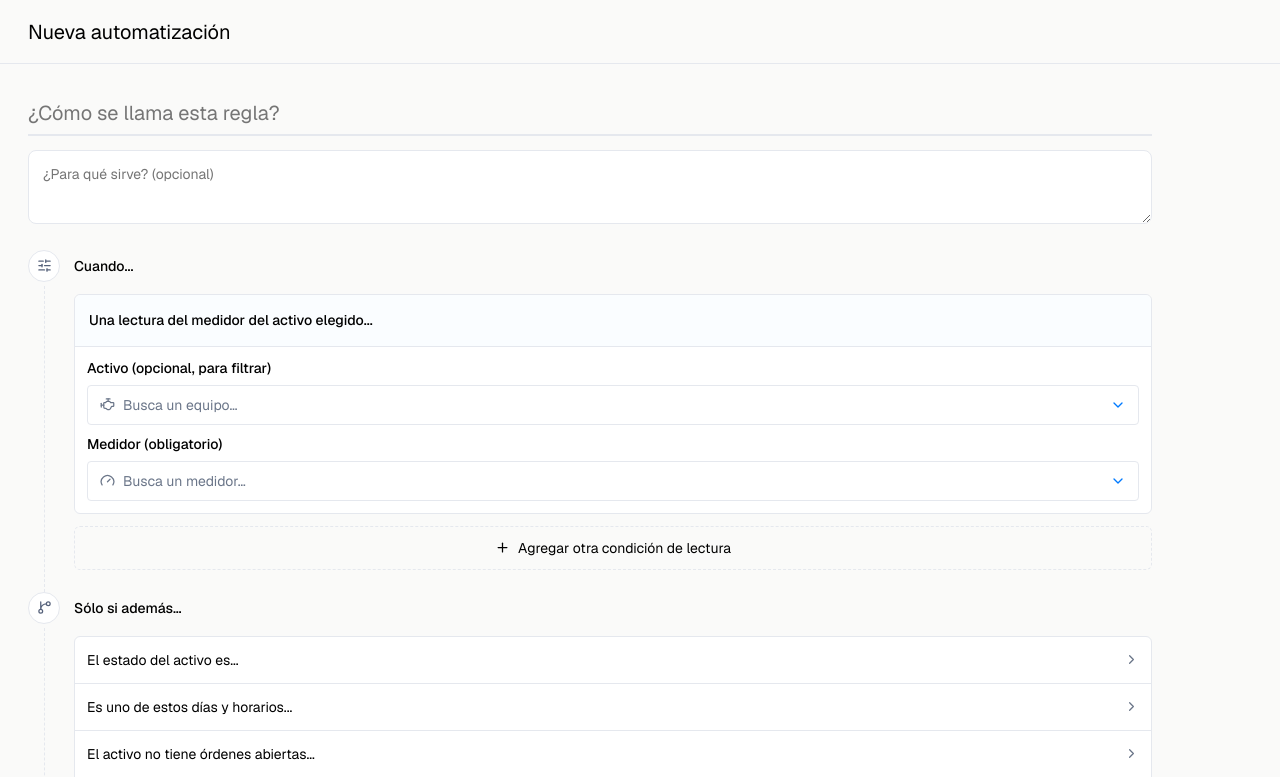
Test case: AutomatizacionCrearPanel — las condiciones › no deja borrar la única condición, pero sí una de varias
The image size is (1280, 777).
Step 1. Click the button "Busca un medidor…" → (184, 481), box [87, 461, 1139, 501]
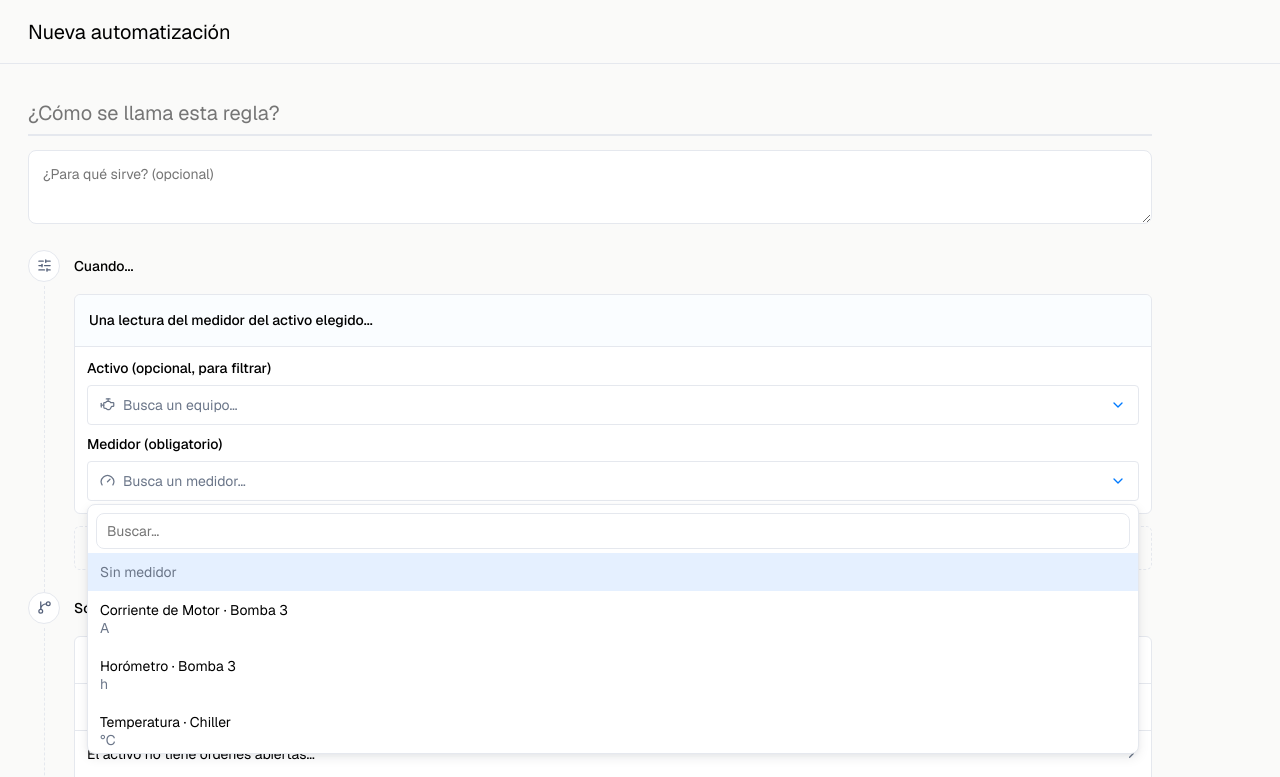
Step 2. Click the text "Corriente de Motor · Bomba 3" → (194, 610), box [100, 601, 288, 619]
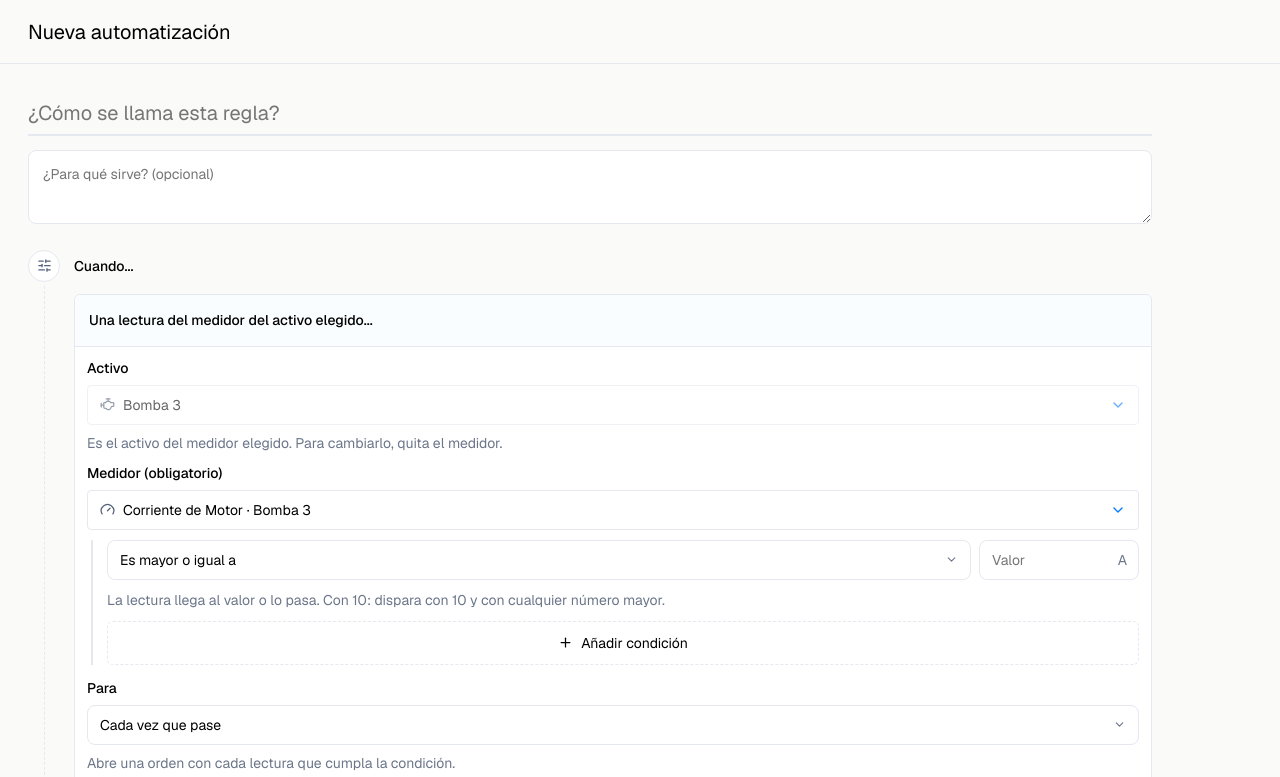
Step 3. Click the button "Añadir condición" → (623, 643), box [107, 621, 1139, 665]
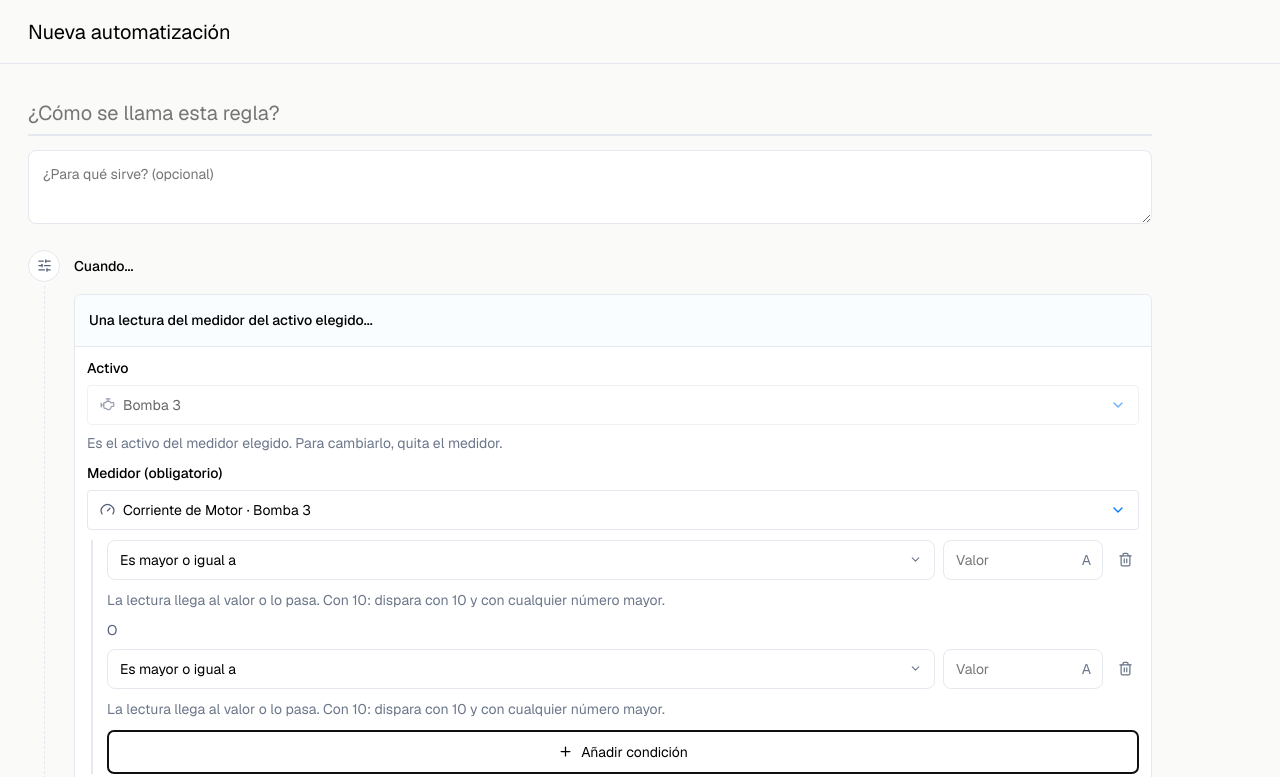
Result: the number of buttons named "Quitar esta condición" is 2
Step 4. Click the 1st button named "Quitar esta condición" → (1125, 560), box [1111, 546, 1139, 574]
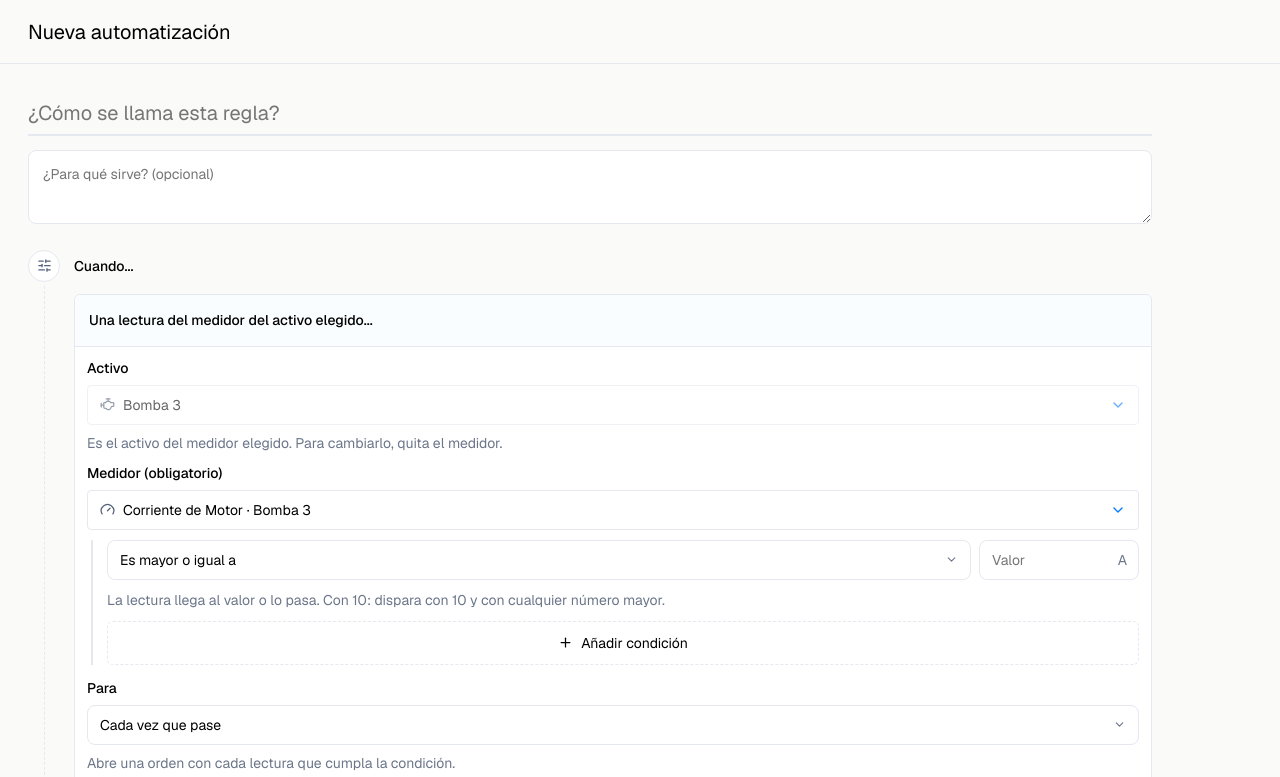
Result: the number of number fields with placeholder "Valor" is 1 at [979, 540, 1139, 580]
